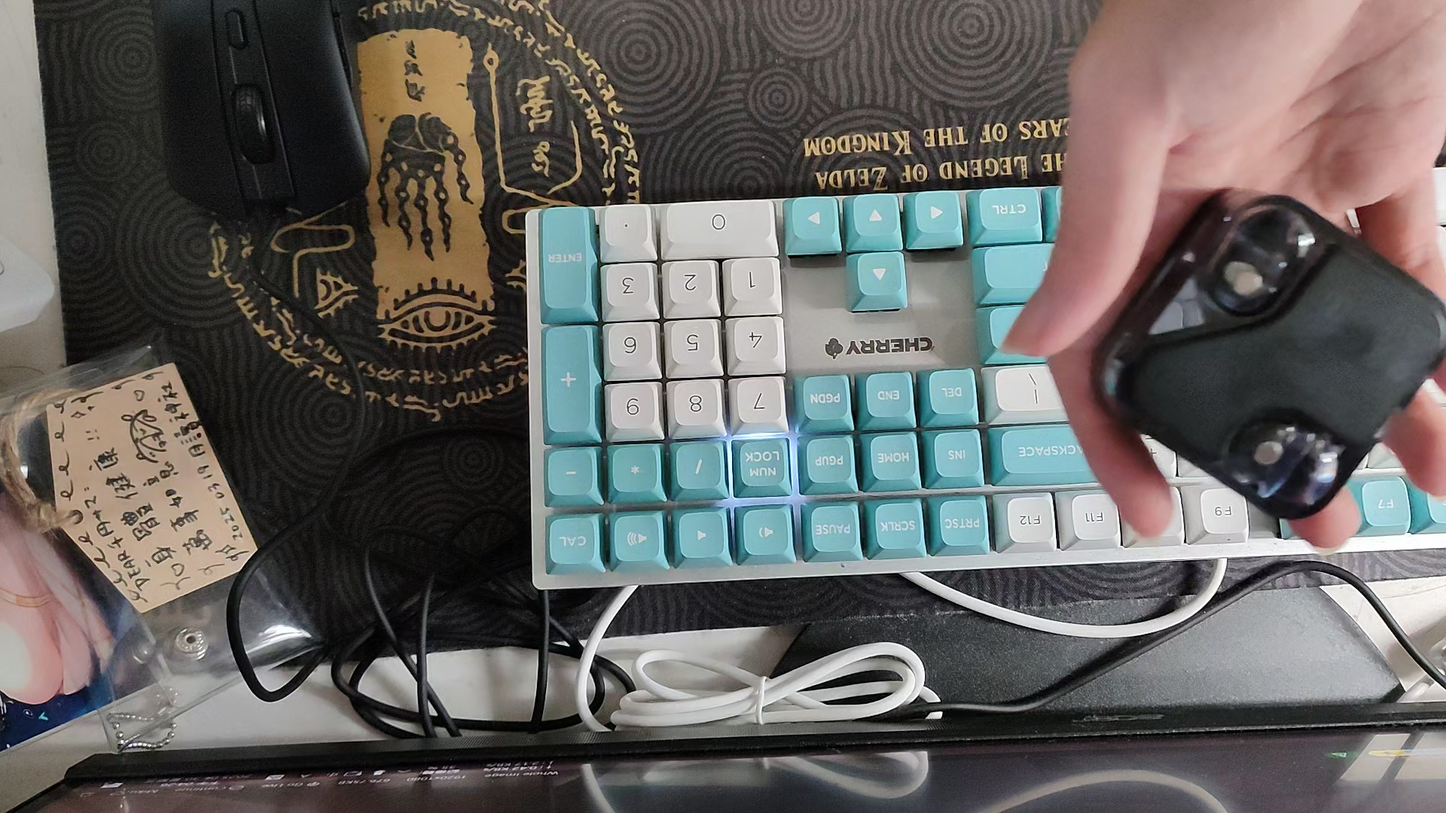Wireless_earphone: (1088, 187, 1446, 523)
